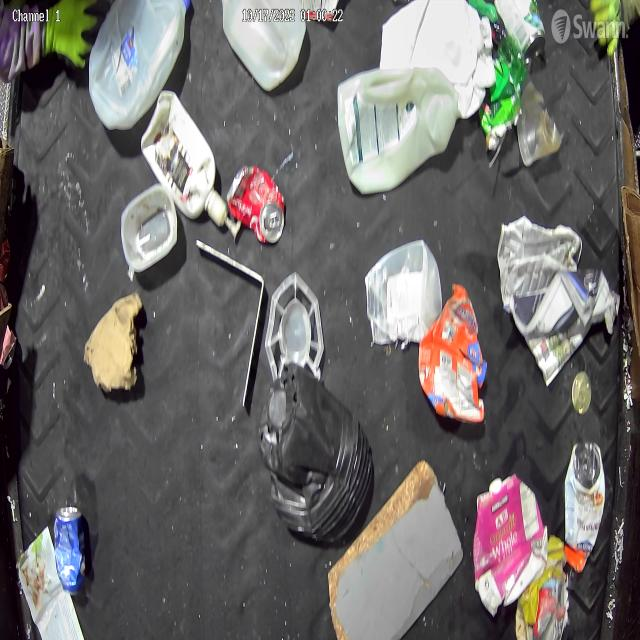can: (227, 166, 285, 243), (494, 0, 546, 62), (51, 502, 86, 594)
milk_jug: (338, 69, 459, 196), (89, 1, 190, 132), (219, 3, 307, 94)
